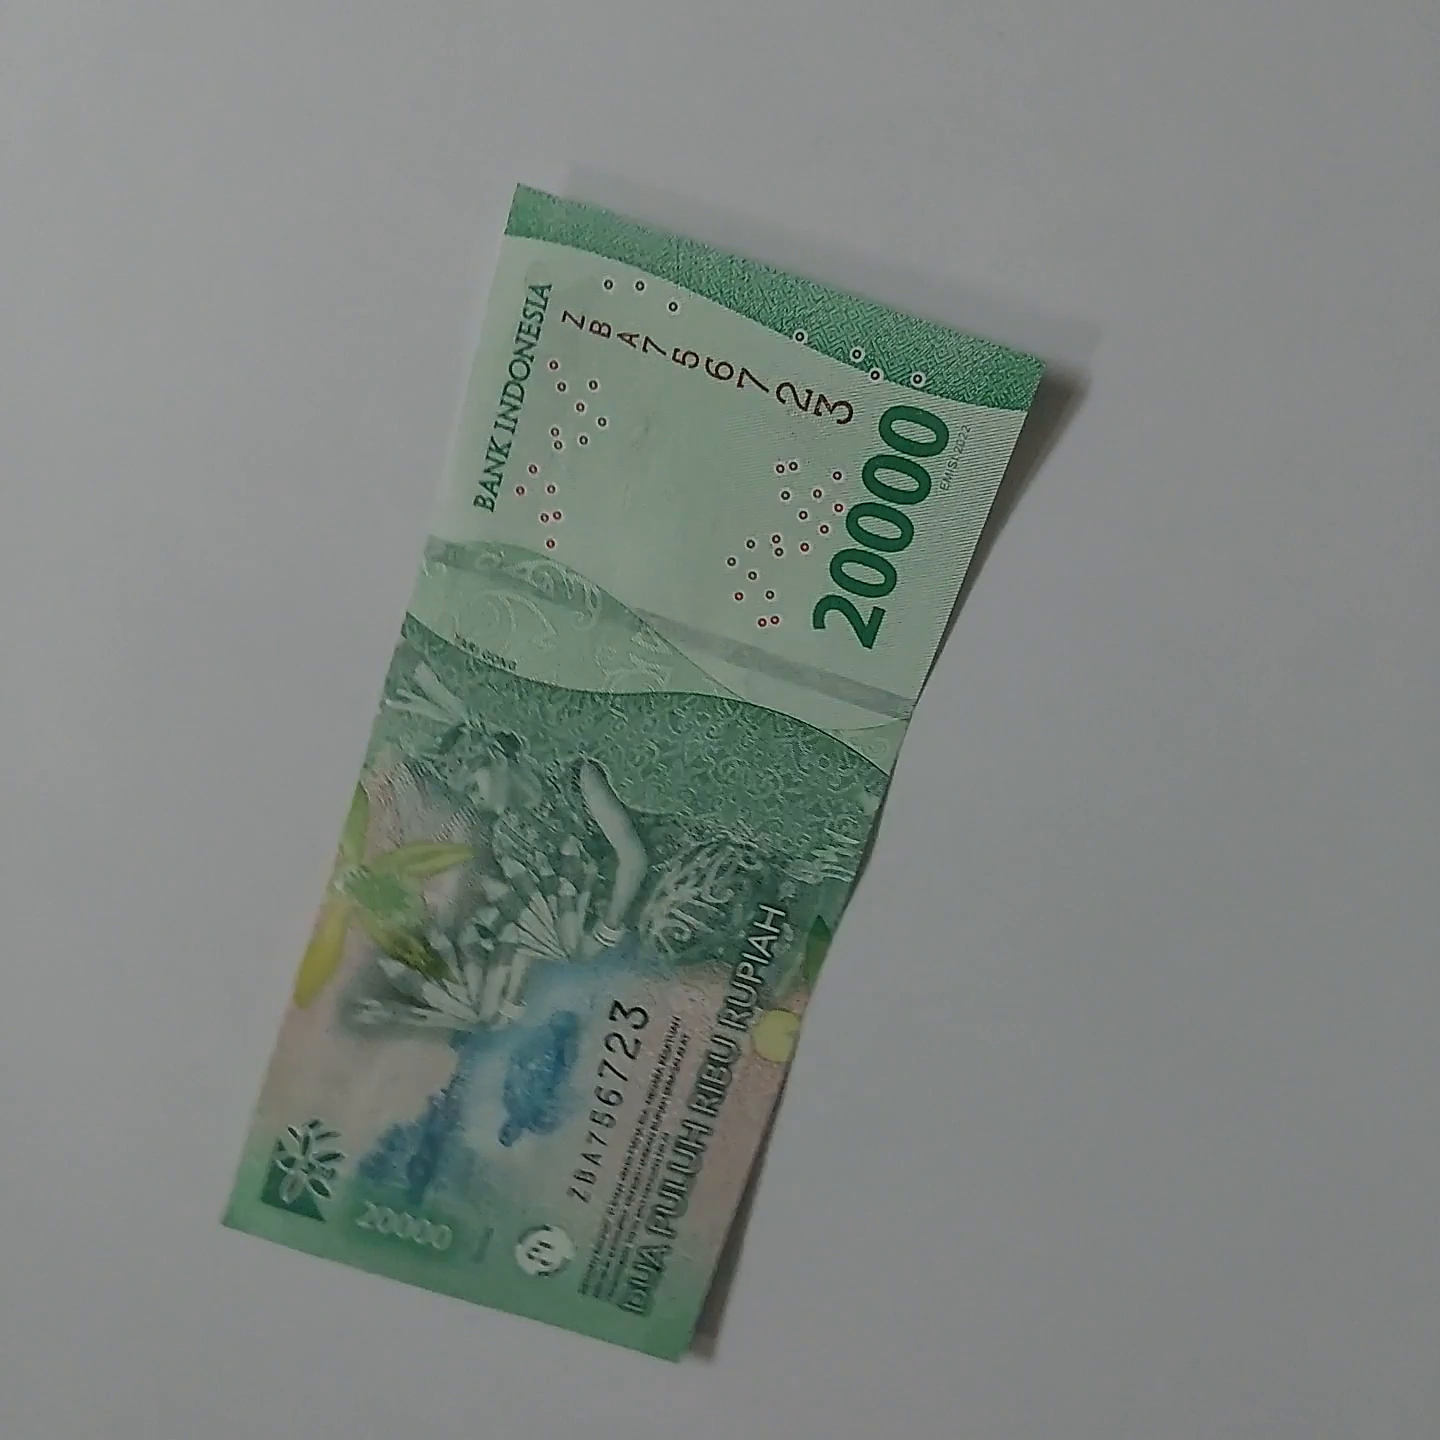20k: (485, 153, 1046, 1267)
